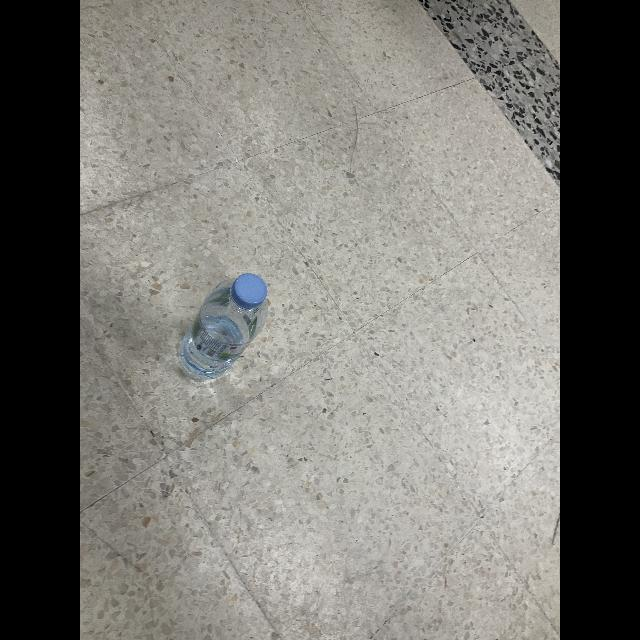plastic_bottle: (178, 273, 268, 385)
